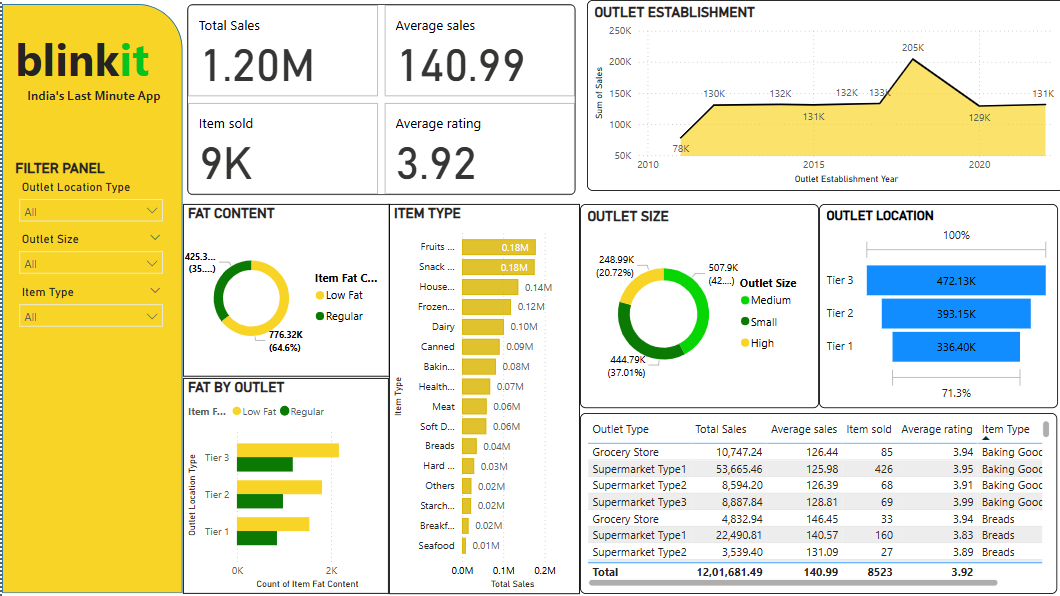

What the dashboard file says about the page in this screenshot:
{"tool":"powerbi","page":{"name":"Page 1","canvas":[1280,720],"ordinal":0},"visuals":[{"type":"lineChart","title":"OUTLET ESTABLISHMENT","fields":{"Category":["BlinkIT Grocery Data.Outlet Establishment Year"],"Y":["Sum(BlinkIT Grocery Data.Sales)"]},"box":[704.8,0,574.7,230.1],"z":0},{"type":"cardVisual","fields":{"Data":["BlinkIT Grocery Data.Total Sales","BlinkIT Grocery Data.Average sales","BlinkIT Grocery Data.Item sold","BlinkIT Grocery Data.Average rating"]},"box":[217.7,0,478.5,240.8],"z":1000},{"type":"funnel","title":"OUTLET LOCATION","fields":{"Y":["BlinkIT Grocery Data.Total Sales"],"Category":["BlinkIT Grocery Data.Outlet Location Type"]},"box":[983.8,246.2,287.5,246.2],"z":2000},{"type":"donutChart","title":"OUTLET SIZE","fields":{"Y":["BlinkIT Grocery Data.Total Sales"],"Category":["BlinkIT Grocery Data.Outlet Size"]},"box":[696.2,246.2,287.5,246.2],"z":3000},{"type":"tableEx","fields":{"Values":["BlinkIT Grocery Data.Outlet Type","BlinkIT Grocery Data.Total Sales","BlinkIT Grocery Data.Average sales","BlinkIT Grocery Data.Item sold","BlinkIT Grocery Data.Average rating","BlinkIT Grocery Data.Item Type"]},"box":[696.2,497.5,575,217.5],"z":4000},{"type":"shape","box":[0,5,217.5,710],"z":5000},{"type":"textbox","box":[11.2,28.8,206.2,118.8],"z":6000},{"type":"slicer","title":"FILTER PANEL","fields":{"Values":["BlinkIT Grocery Data.Outlet Location Type"]},"box":[11.2,192.5,192.5,85],"z":7000},{"type":"slicer","fields":{"Values":["BlinkIT Grocery Data.Item Type"]},"box":[11.2,338.8,192.5,85],"z":8000},{"type":"slicer","fields":{"Values":["BlinkIT Grocery Data.Outlet Size"]},"box":[11.2,275,192.5,85],"z":9000},{"type":"donutChart","title":"FAT CONTENT","fields":{"Category":["BlinkIT Grocery Data.Item Fat Content"],"Y":["BlinkIT Grocery Data.Total Sales"]},"box":[217.5,246.2,248.8,208],"z":10000},{"type":"barChart","title":"ITEM TYPE ","fields":{"Category":["BlinkIT Grocery Data.Item Type"],"Y":["BlinkIT Grocery Data.Total Sales"]},"box":[466.2,246.2,230,470],"z":11000},{"type":"clusteredBarChart","title":"FAT BY OUTLET","fields":{"Category":["BlinkIT Grocery Data.Outlet Location Type"],"Y":["CountNonNull(BlinkIT Grocery Data.Item Fat Content)"],"Series":["BlinkIT Grocery Data.Item Fat Content"]},"box":[218,455,248,260],"z":12000}]}

Visuals, with their boxes in screenshot pixels (x1, y1, x2, y2), scaled from the page's 1280x720 canvas onto the 1060x596 screenshot:
"OUTLET ESTABLISHMENT" lineChart: [584, 0, 1059, 190]
cardVisual - BlinkIT Grocery Data.Total Sales x BlinkIT Grocery Data.Average sales: [180, 0, 577, 199]
"OUTLET LOCATION" funnel: [815, 204, 1053, 408]
"OUTLET SIZE" donutChart: [577, 204, 815, 408]
tableEx - BlinkIT Grocery Data.Outlet Type x BlinkIT Grocery Data.Total Sales: [577, 412, 1053, 592]
shape: [0, 4, 180, 592]
textbox: [9, 24, 180, 122]
"FILTER PANEL" slicer: [9, 159, 169, 230]
slicer - BlinkIT Grocery Data.Item Type: [9, 280, 169, 351]
slicer - BlinkIT Grocery Data.Outlet Size: [9, 228, 169, 298]
"FAT CONTENT" donutChart: [180, 204, 386, 376]
"ITEM TYPE " barChart: [386, 204, 577, 593]
"FAT BY OUTLET" clusteredBarChart: [181, 377, 386, 592]
